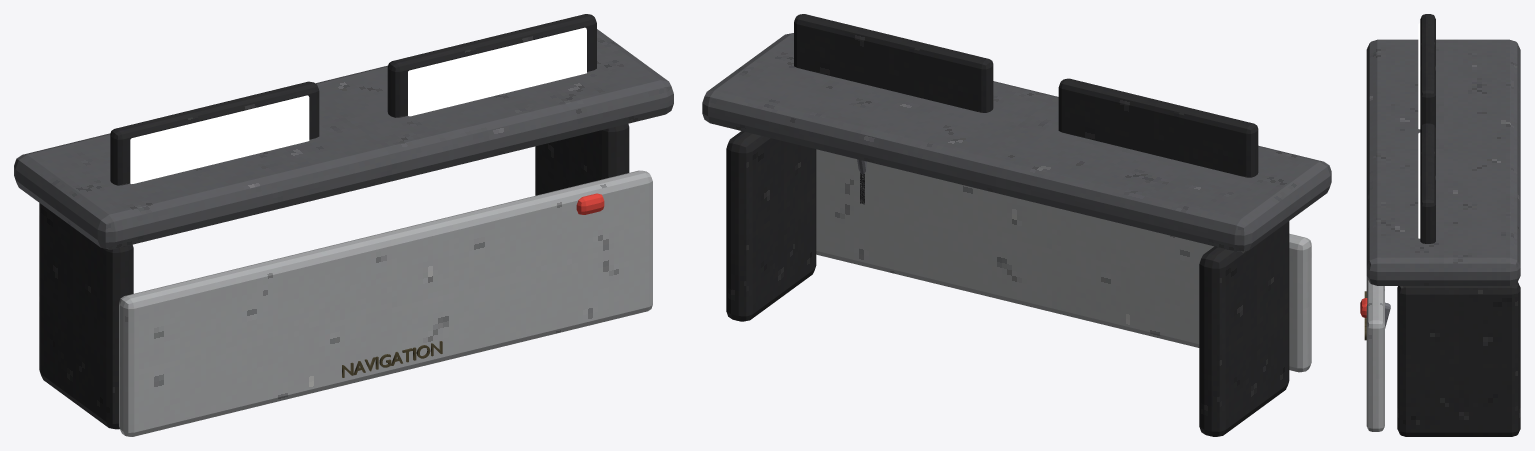
The model's file is decor_bridge_nav_desk.glb.
3 renders of one model, left to right at view 1: azimuth 30°, elevation 25°; view 2: azimuth 150°, elevation 25°; view 3: azimuth 270°, elevation 25°, orthographic. The views are drawn at different scales.
Parts seen in each view (by area): view 1: DEC_BridgeNavDesk__Kick_Panel, DEC_BridgeNavDesk__Console_Body, DEC_BridgeNavDesk__Support_Bracket_L, DEC_BridgeNavDesk__Screen_Glow_L, DEC_BridgeNavDesk__Screen_Glow_R, DEC_BridgeNavDesk__Support_Bracket_R, DEC_BridgeNavDesk__Screen_Bezel_L, DEC_BridgeNavDesk__Screen_Bezel_R, DEC_BridgeNavDesk__Nameplate_Text; view 2: DEC_BridgeNavDesk__Console_Body, DEC_BridgeNavDesk__Kick_Panel, DEC_BridgeNavDesk__Support_Bracket_L, DEC_BridgeNavDesk__Support_Bracket_R, DEC_BridgeNavDesk__Screen_Bezel_L, DEC_BridgeNavDesk__Screen_Bezel_R; view 3: DEC_BridgeNavDesk__Console_Body, DEC_BridgeNavDesk__Support_Bracket_R, DEC_BridgeNavDesk__Kick_Panel, DEC_BridgeNavDesk__Screen_Bezel_R, DEC_BridgeNavDesk__Screen_Bezel_L, DEC_BridgeNavDesk__Screen_Glow_R, DEC_BridgeNavDesk__Screen_Glow_L.
Part boxes in pixels (left/top/right/bottom): DEC_BridgeNavDesk__Kick_Panel: left=119, top=170, right=652, bottom=436; DEC_BridgeNavDesk__Console_Body: left=14, top=29, right=673, bottom=249; DEC_BridgeNavDesk__Support_Bracket_L: left=39, top=203, right=133, bottom=429; DEC_BridgeNavDesk__Screen_Glow_L: left=130, top=95, right=309, bottom=183; DEC_BridgeNavDesk__Screen_Glow_R: left=408, top=27, right=586, bottom=116; DEC_BridgeNavDesk__Support_Bracket_R: left=535, top=124, right=629, bottom=195; DEC_BridgeNavDesk__Screen_Bezel_L: left=110, top=81, right=319, bottom=185; DEC_BridgeNavDesk__Screen_Bezel_R: left=387, top=14, right=596, bottom=117; DEC_BridgeNavDesk__Nameplate_Text: left=342, top=341, right=442, bottom=377; DEC_BridgeNavDesk__Console_Body: left=702, top=33, right=1331, bottom=251; DEC_BridgeNavDesk__Kick_Panel: left=816, top=149, right=1311, bottom=372; DEC_BridgeNavDesk__Support_Bracket_L: left=1199, top=221, right=1289, bottom=436; DEC_BridgeNavDesk__Support_Bracket_R: left=726, top=131, right=816, bottom=321; DEC_BridgeNavDesk__Screen_Bezel_L: left=1058, top=78, right=1258, bottom=177; DEC_BridgeNavDesk__Screen_Bezel_R: left=794, top=14, right=993, bottom=112; DEC_BridgeNavDesk__Console_Body: left=1366, top=39, right=1520, bottom=285; DEC_BridgeNavDesk__Support_Bracket_R: left=1397, top=282, right=1520, bottom=436; DEC_BridgeNavDesk__Kick_Panel: left=1366, top=276, right=1384, bottom=431; DEC_BridgeNavDesk__Screen_Bezel_R: left=1420, top=123, right=1435, bottom=243; DEC_BridgeNavDesk__Screen_Bezel_L: left=1420, top=14, right=1435, bottom=127; DEC_BridgeNavDesk__Screen_Glow_R: left=1418, top=132, right=1420, bottom=238; DEC_BridgeNavDesk__Screen_Glow_L: left=1418, top=23, right=1420, bottom=129.
Size of the model in its own units: 1.74 by 0.825 by 0.52.
Materials: 7 (4 with a texture image).
